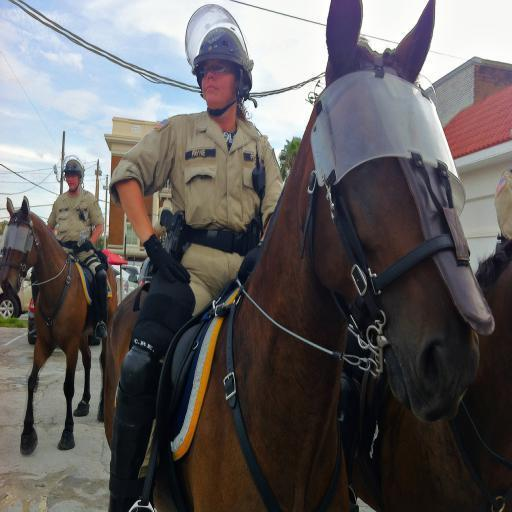horse: (100, 0, 482, 512), (343, 238, 512, 512), (0, 198, 117, 458)
